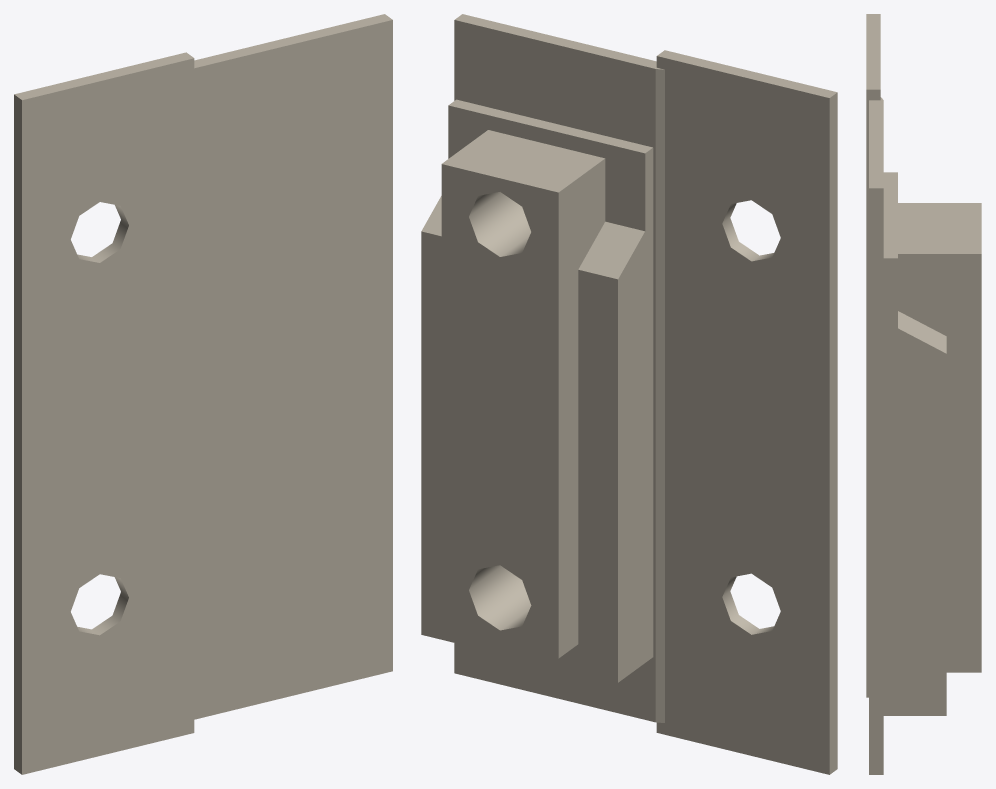
The picture shows the model from 3 angles, left to right: view 1: azimuth 30°, elevation 25°; view 2: azimuth 150°, elevation 25°; view 3: azimuth 270°, elevation 25°; orthographic projection. The views are drawn at different scales.
Visible parts, largest first — view 1: bau0018911312-2; view 2: bau0018911312-2, bau0027282328-2; view 3: bau0027282328-2, bau0018911312-2.
Part boxes in pixels (bbox=[...]): bau0018911312-2: bbox=[14, 14, 392, 774]; bau0018911312-2: bbox=[454, 14, 837, 774]; bau0027282328-2: bbox=[421, 99, 653, 682]; bau0027282328-2: bbox=[883, 172, 981, 715]; bau0018911312-2: bbox=[866, 14, 883, 774].
Size of the model in its own units: 33.5 by 58 by 10.
